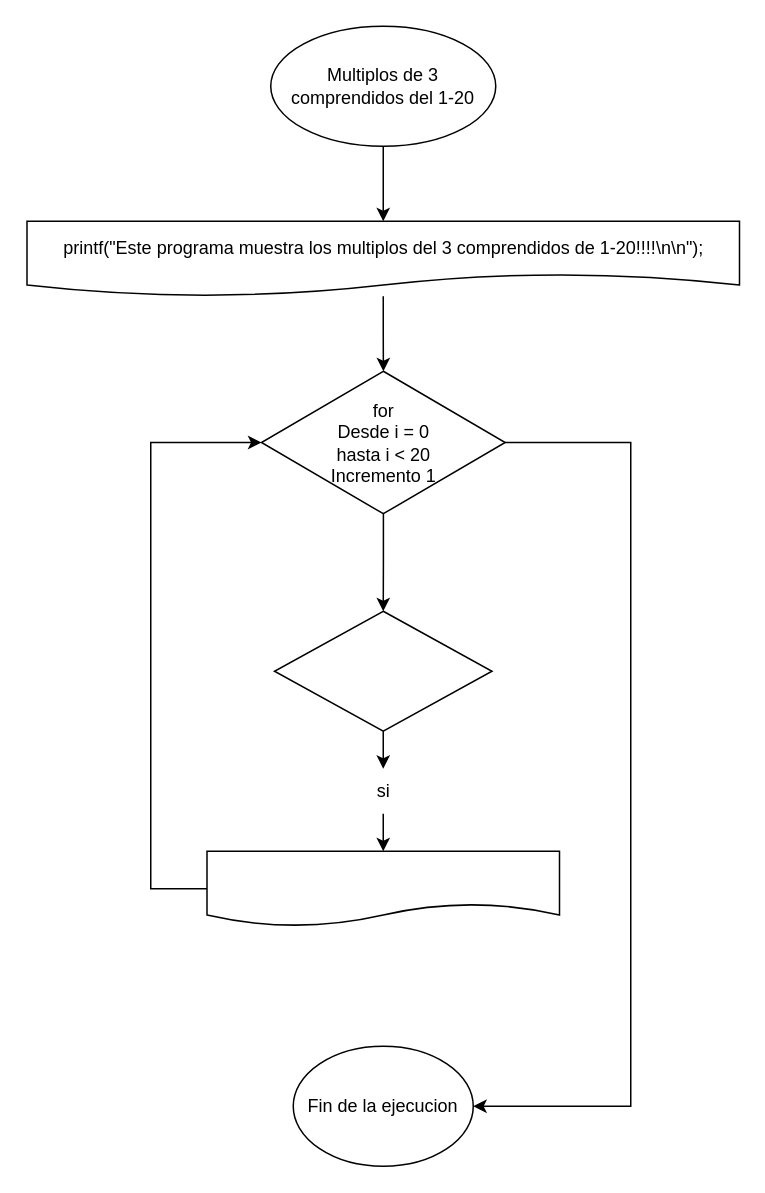
The diagram is 765 pixels wide and 1193 high, and some of its shapes have lost their labels. Here are the shapes that lost their labels. From the top down, the centre of each, then its label:
(382,670): if i % 3 == 0 && i != 0
(383,888): printf("Numero multiplo de 3 es: %i\n", i);
